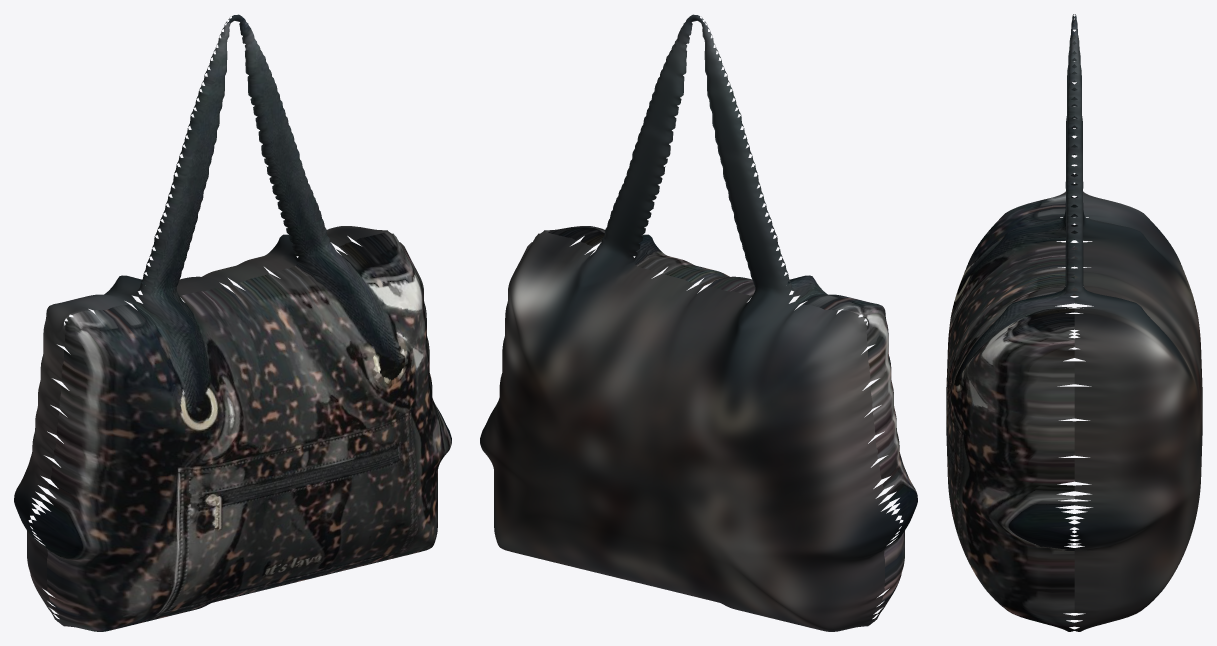
Rendered from mauna-carey.glb.
The picture shows the model from 3 angles, left to right: view 1: azimuth 30°, elevation 25°; view 2: azimuth 150°, elevation 25°; view 3: azimuth 270°, elevation 25°; orthographic projection. The views are drawn at different scales.
Visible parts, largest first — view 1: mauna-carey; view 2: mauna-carey; view 3: mauna-carey.
Boxes of the visible parts, <box> form: mauna-carey: <box>14,14,451,631</box>; mauna-carey: <box>480,14,917,631</box>; mauna-carey: <box>946,14,1202,631</box>.
Size of the model in its own units: 0.3688 by 0.493 by 0.2118.
Materials: 2 (2 with a texture image).
